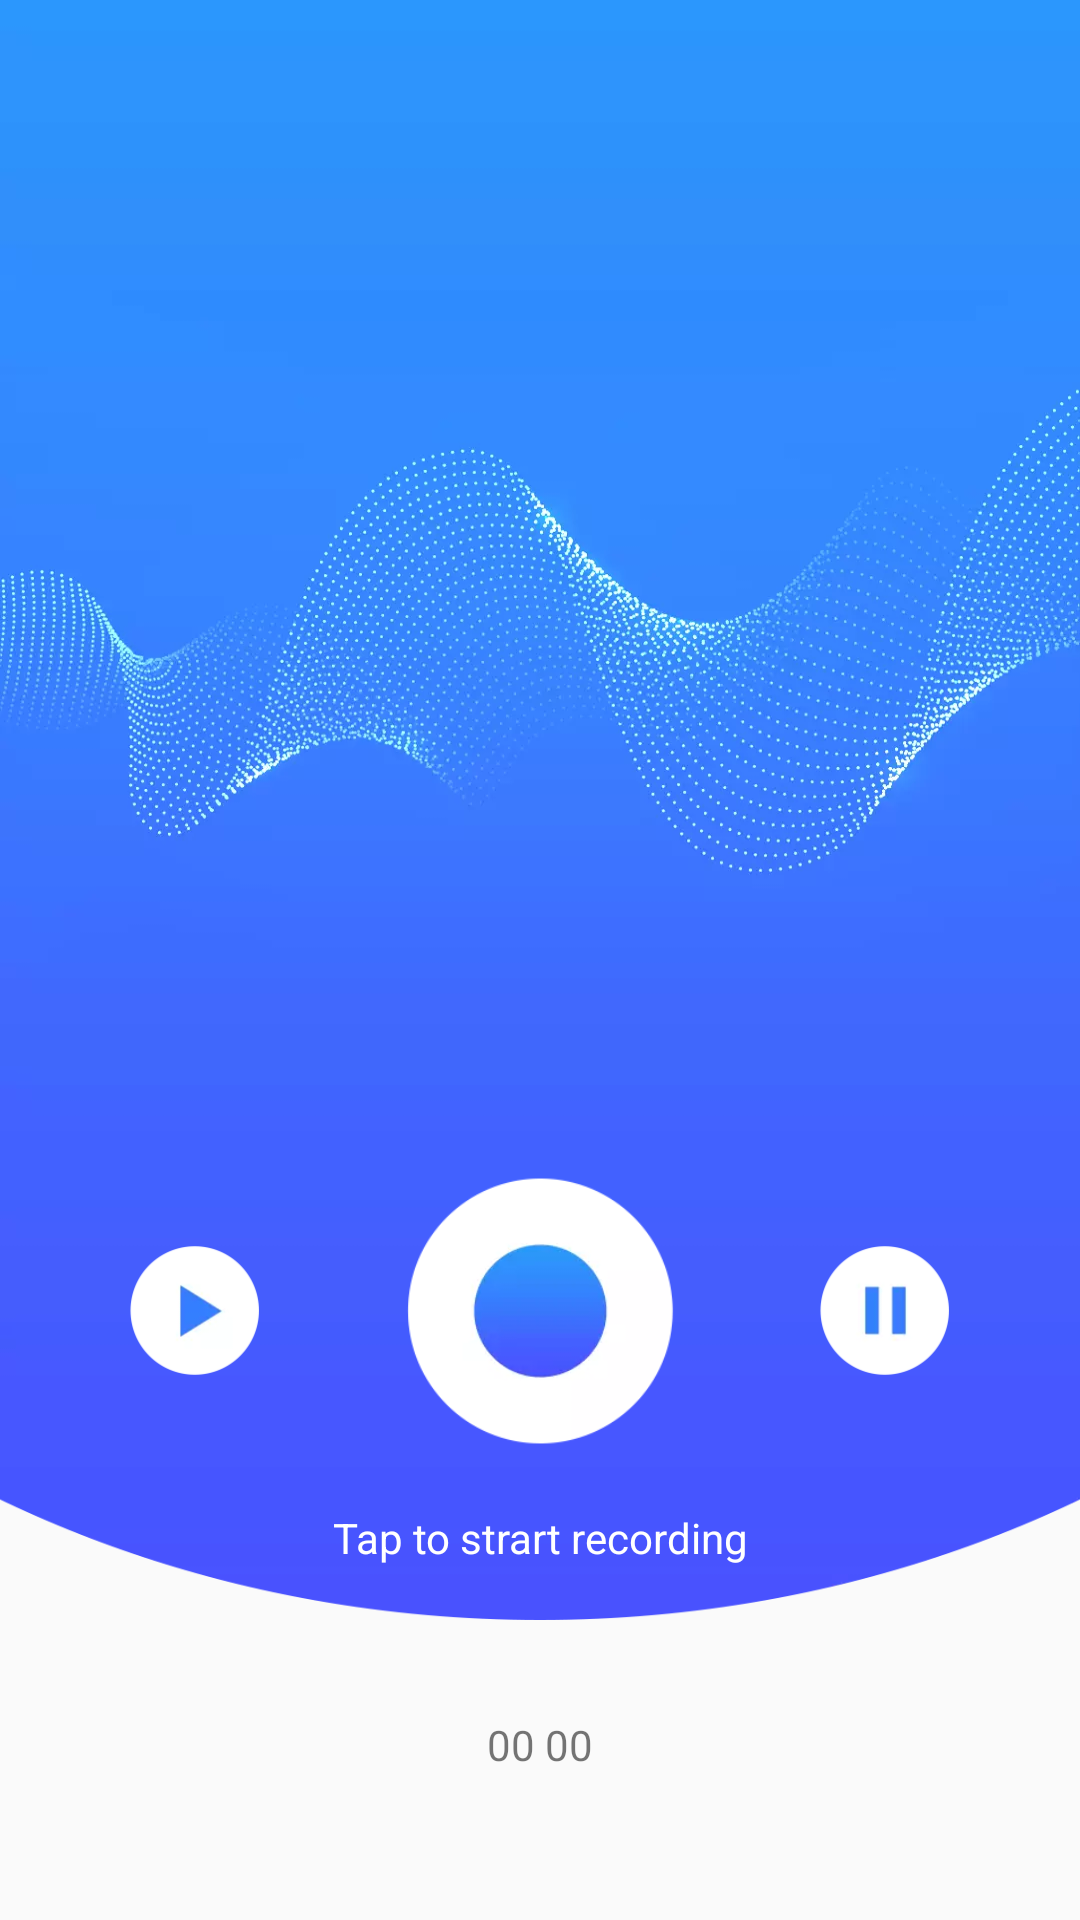

Icons on this 1080×1920 Android screen, each with its box as (x1, y1, x2, y2):
home pause: (820, 1246, 949, 1375)
home play: (130, 1246, 259, 1375)
